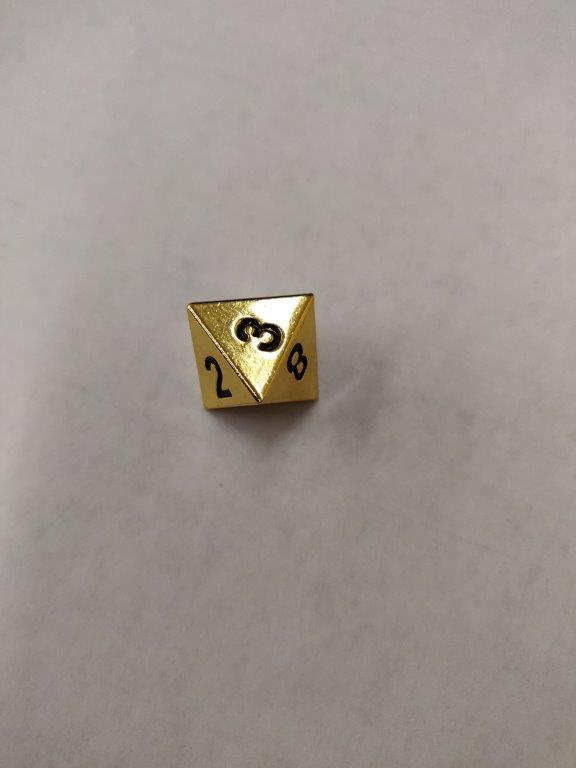d8-3: (186, 290, 324, 411)
